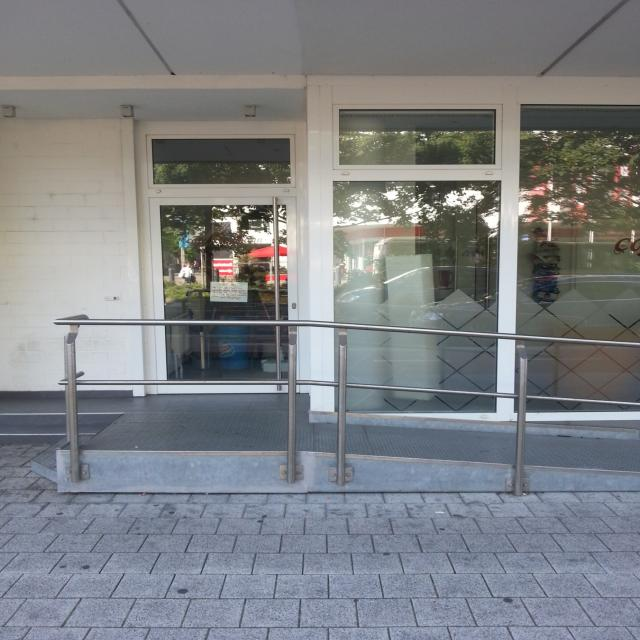CLIMB: (309, 412, 640, 493)
